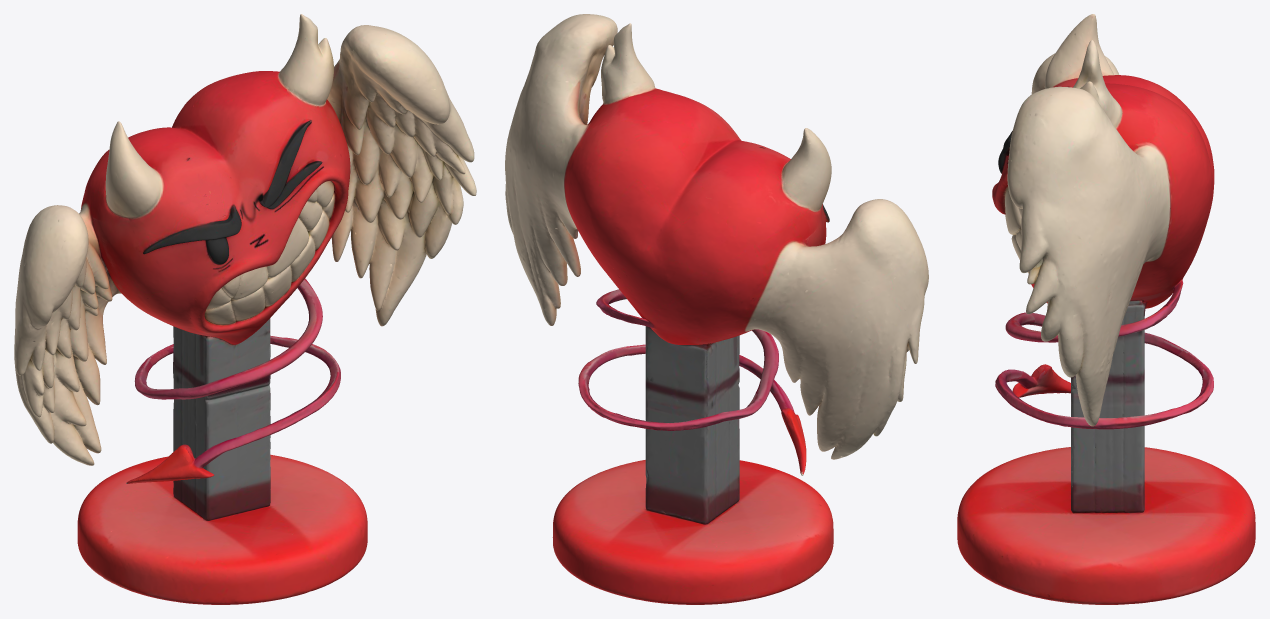
The model's file is asset.glb.
3 renders of one model, left to right at view 1: azimuth 30°, elevation 25°; view 2: azimuth 150°, elevation 25°; view 3: azimuth 270°, elevation 25°, orthographic. The views are drawn at different scales.
Parts seen in each view (by area): view 1: Mesh_0; view 2: Mesh_0; view 3: Mesh_0.
Boxes of the visible parts, box(x1,y1,x2,y2) form: Mesh_0: box(14, 14, 476, 604); Mesh_0: box(505, 14, 928, 604); Mesh_0: box(957, 14, 1255, 604).
Size of the model in its own units: 8.8 by 10 by 5.01.
Materials: 1 (1 with a texture image).
